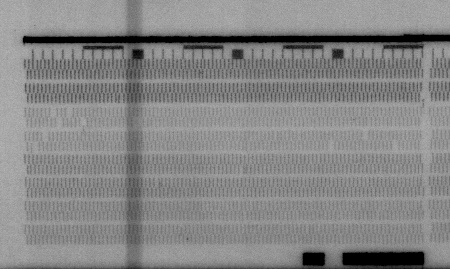Broken hole: (48, 106, 74, 127), (361, 127, 372, 142), (326, 141, 338, 153), (388, 140, 401, 151), (30, 142, 41, 154), (41, 132, 50, 143)
Oblique printing: (76, 117, 90, 132), (417, 92, 428, 111), (114, 92, 128, 106), (236, 164, 250, 176), (151, 177, 164, 188)
